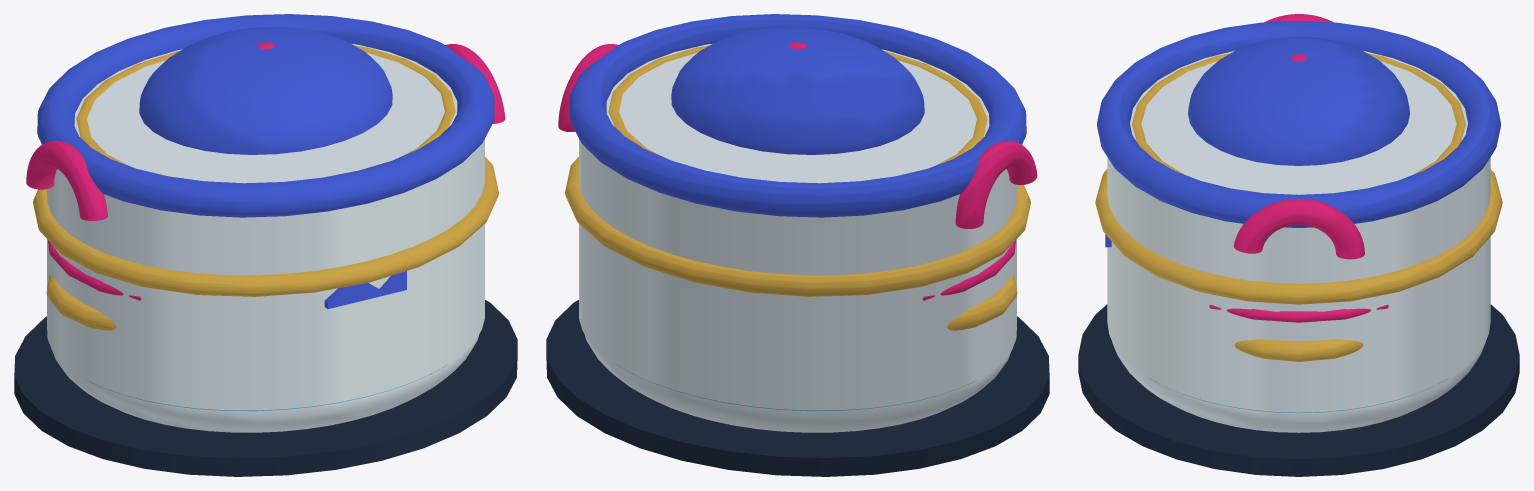
The model's file is 0260_世界古代文明图鉴_卡诺匹斯罐.glb.
3 renders of one model, left to right at view 1: azimuth 30°, elevation 25°; view 2: azimuth 150°, elevation 25°; view 3: azimuth 270°, elevation 25°, orthographic. The views are drawn at different scales.
Visible parts, largest first — view 1: card_0260; view 2: card_0260; view 3: card_0260.
Part boxes in pixels (x1,y1,x2,y2): card_0260: (14, 14, 517, 476); card_0260: (546, 14, 1049, 476); card_0260: (1078, 14, 1519, 476).
Size of the model in its own units: 1.35 by 1 by 1.21.
